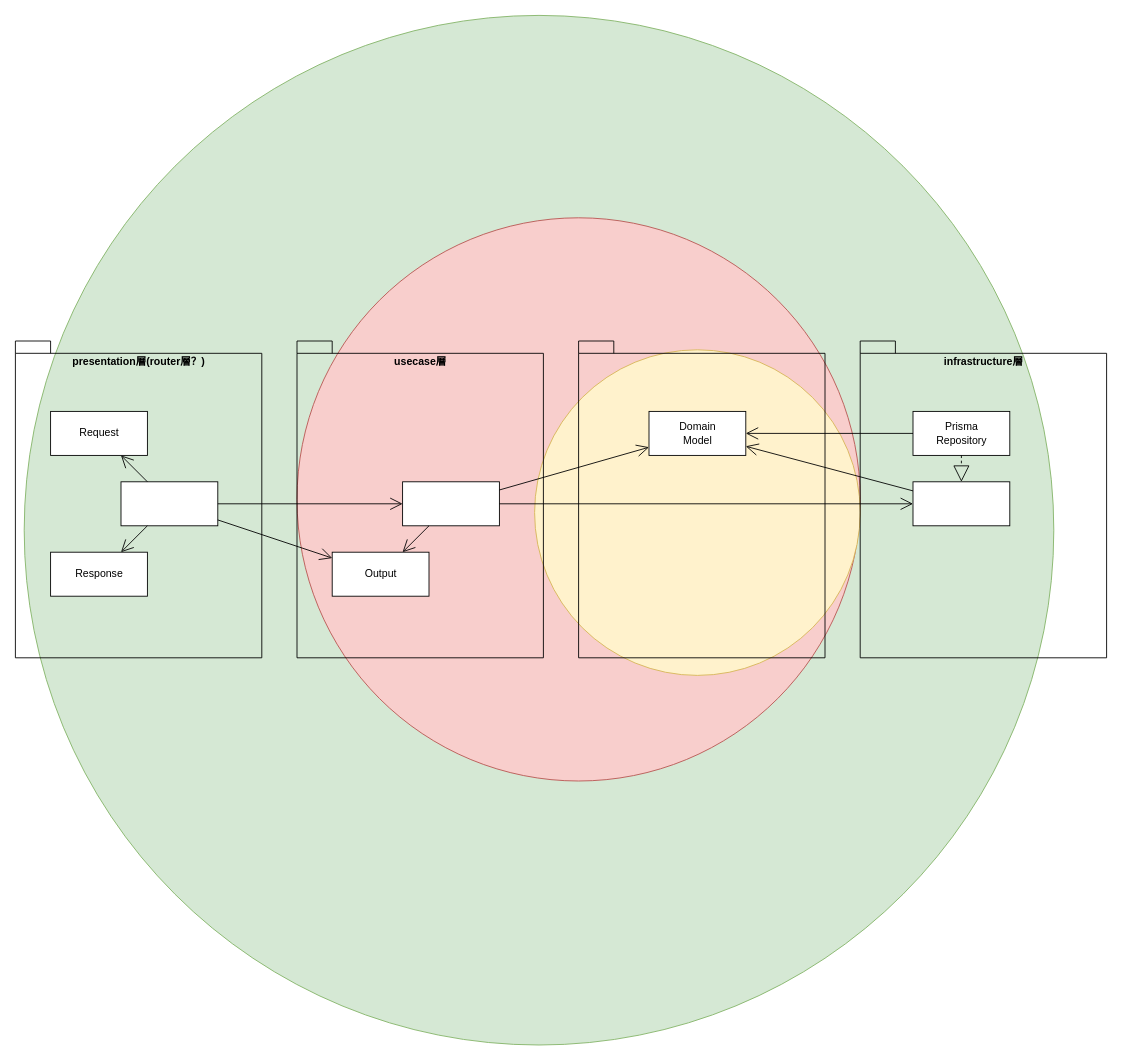
Some shapes in this 1122 by 1060 pixel diagram are drawn without their labels. Each missing label, with the box of its shape:
<< interface >> Repository: (912, 481, 1010, 526)
domain層: (578, 340, 825, 658)
Router: (120, 481, 218, 526)
Service: (402, 481, 499, 526)
